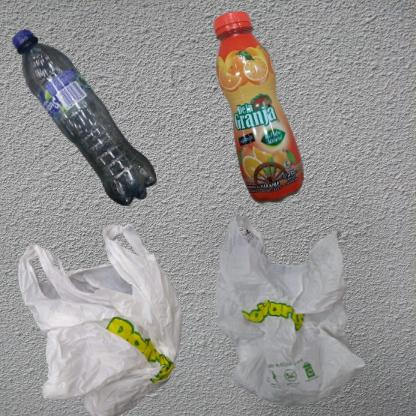bolsa: (10, 213, 212, 416), (213, 213, 369, 409)
botella: (10, 10, 172, 239), (213, 10, 305, 206)
